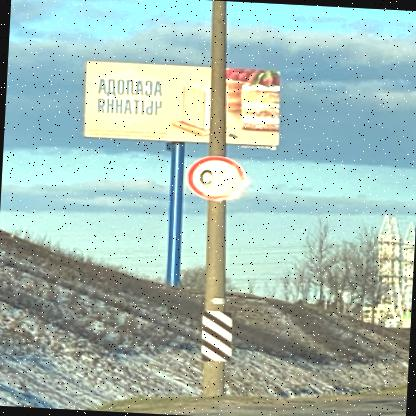speedlimit: (190, 154, 249, 200)
